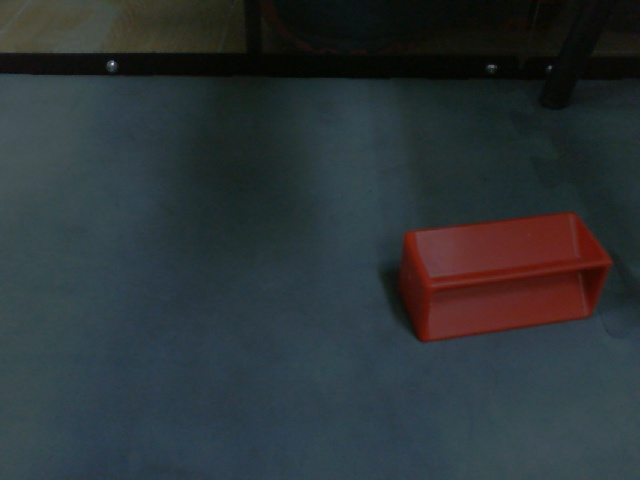RedSample: (395, 209, 616, 346)
